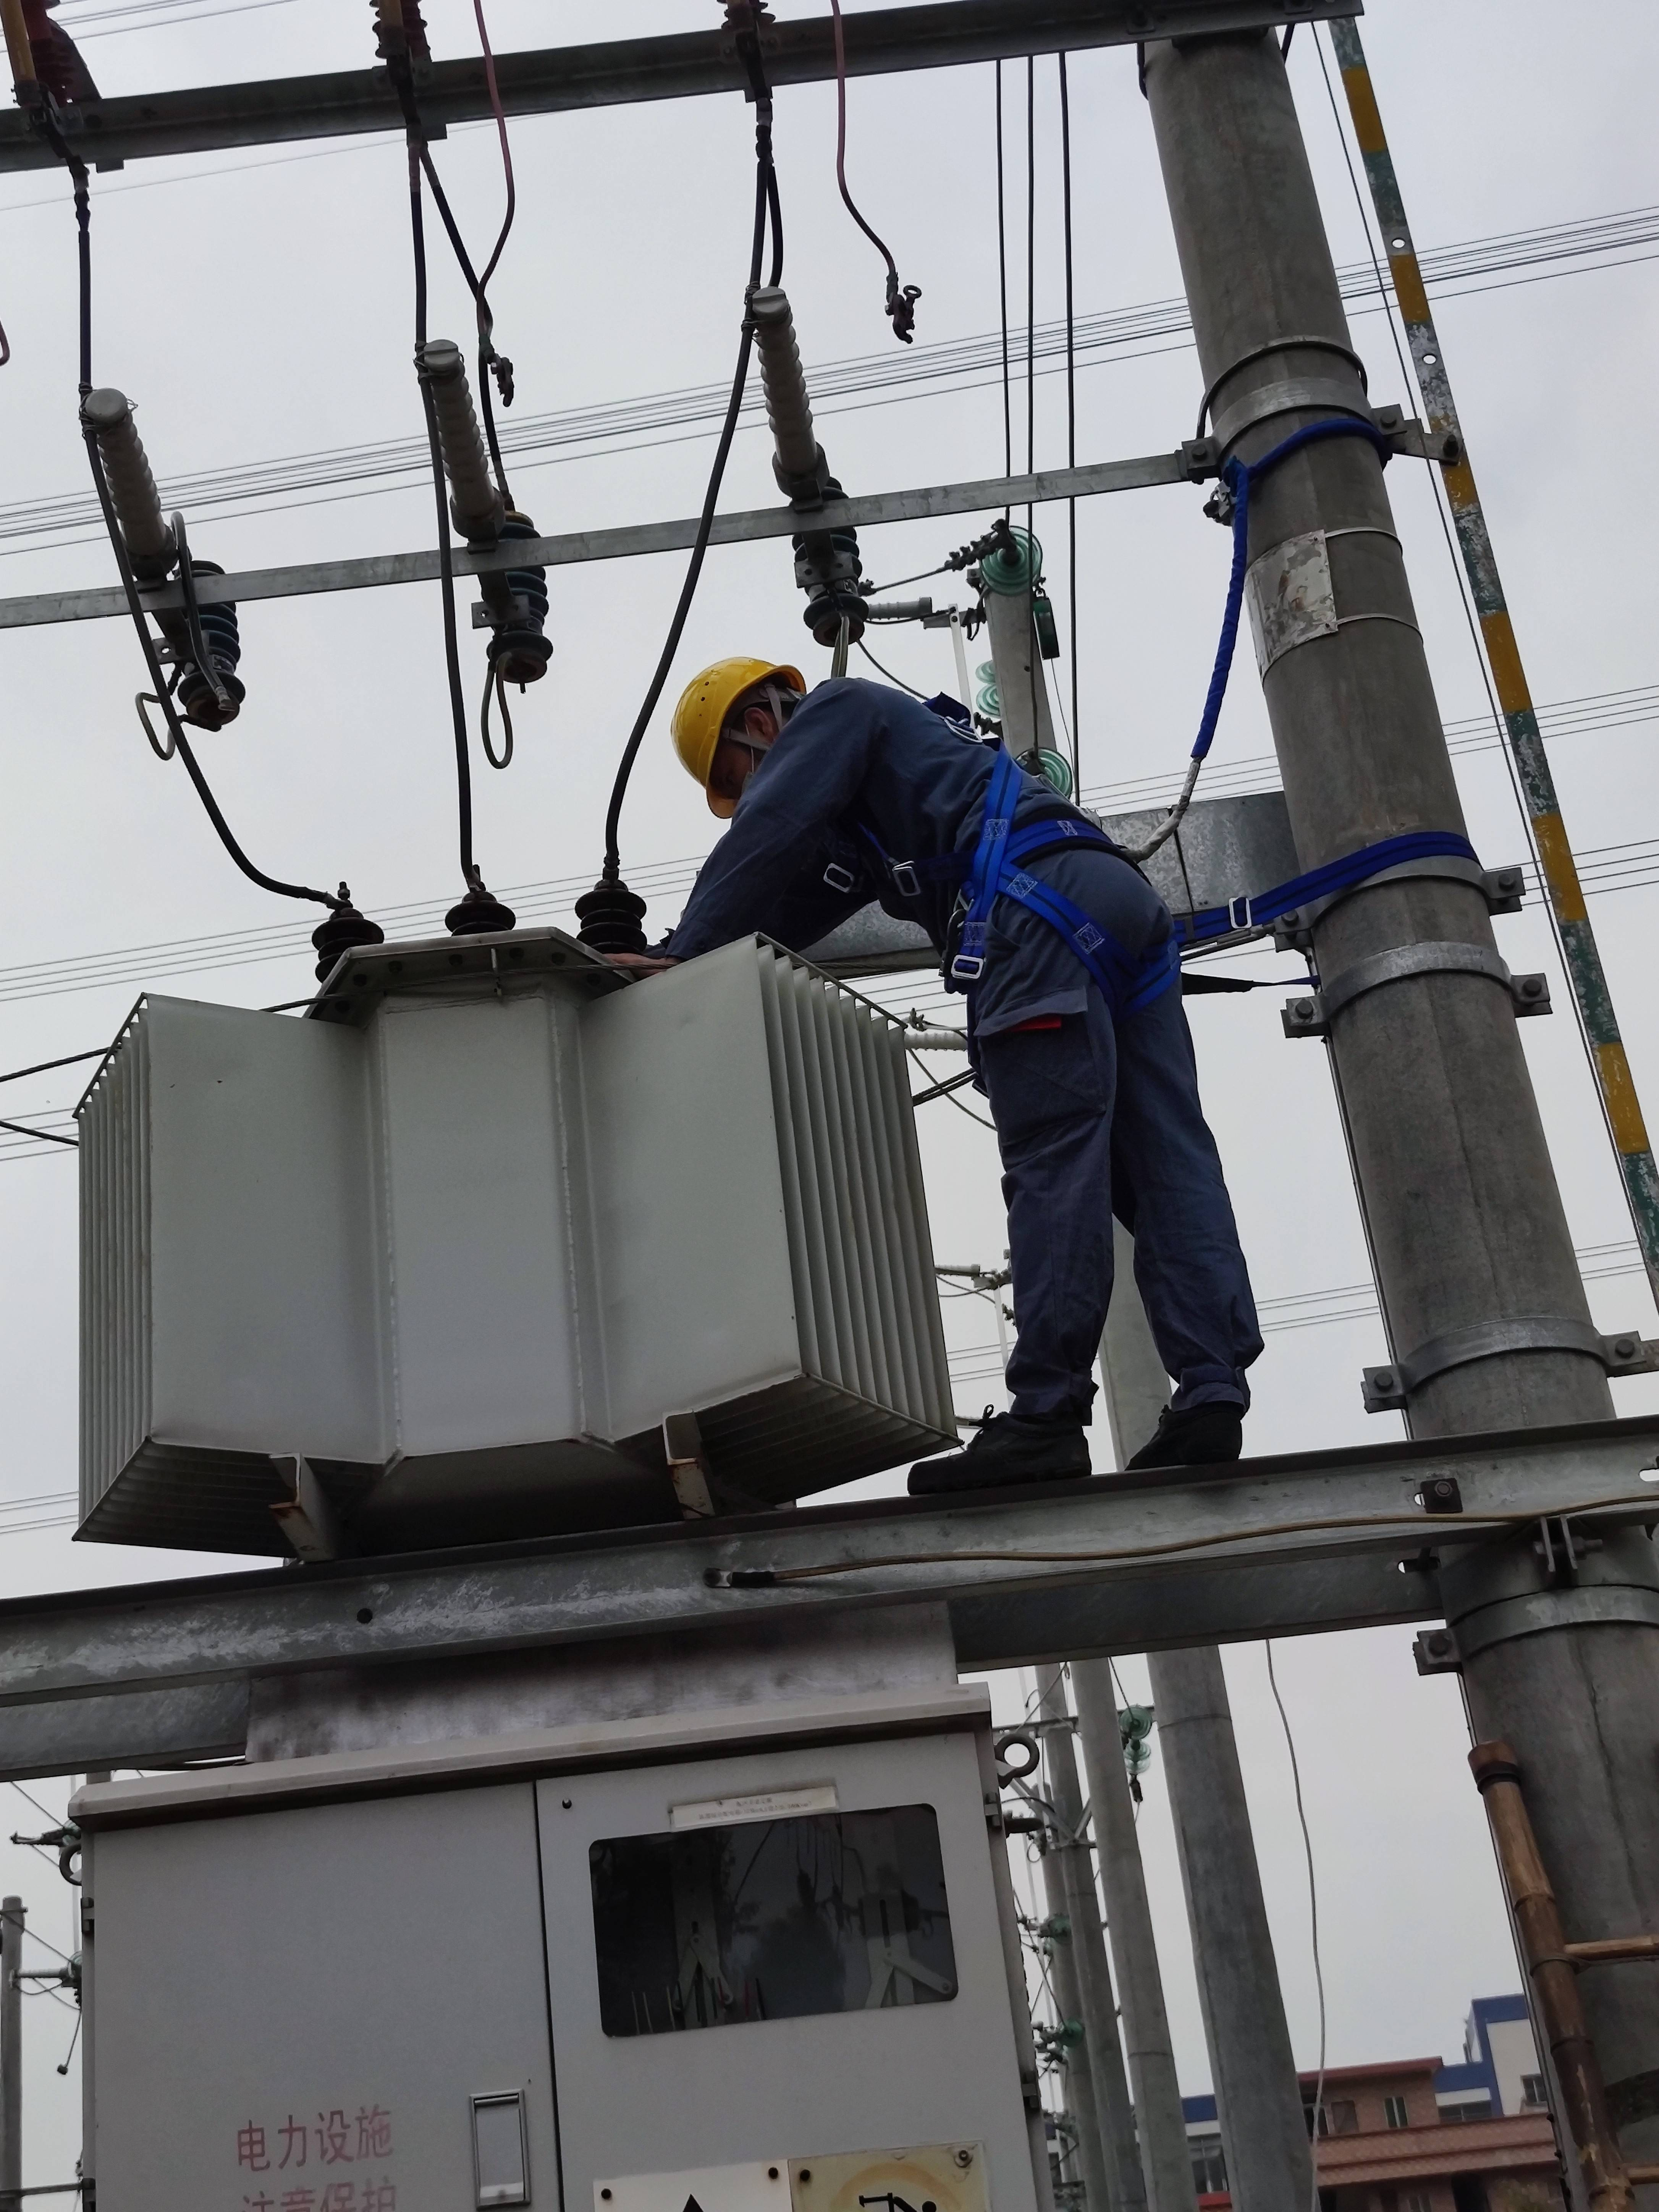downsuit: (967, 984, 1255, 1426)
upsuit: (681, 683, 1155, 981)
